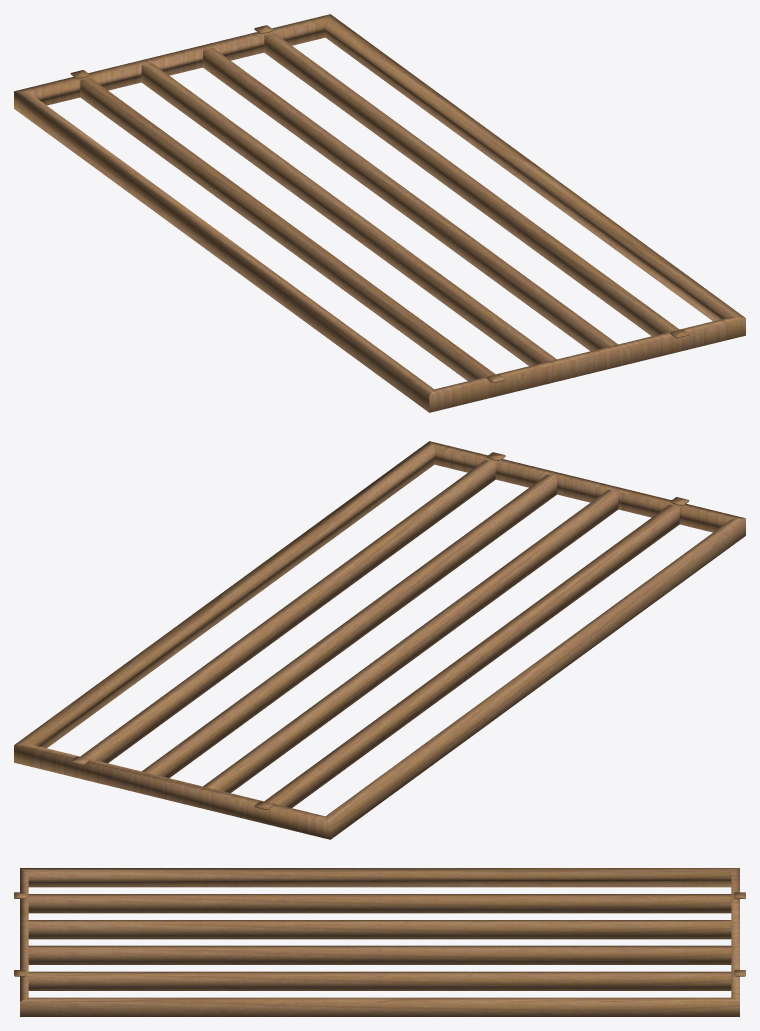
Rendered from Woodline Top.glb.
The picture shows the model from 3 angles, top to bottom: view 1: azimuth 30°, elevation 25°; view 2: azimuth 150°, elevation 25°; view 3: azimuth 270°, elevation 25°; orthographic projection. The views are drawn at different scales.
Visible parts, largest first — view 1: Woodline Archway.001; view 2: Woodline Archway.001; view 3: Woodline Archway.001.
Boxes of the visible parts, x1,y1,x2,y2 form: Woodline Archway.001: [14, 14, 745, 412]; Woodline Archway.001: [14, 441, 745, 839]; Woodline Archway.001: [14, 868, 745, 1016].
Bounding box in the file's own units: 0.9388 × 0.0526 × 2.17.
Materials: 1 (1 with a texture image).
